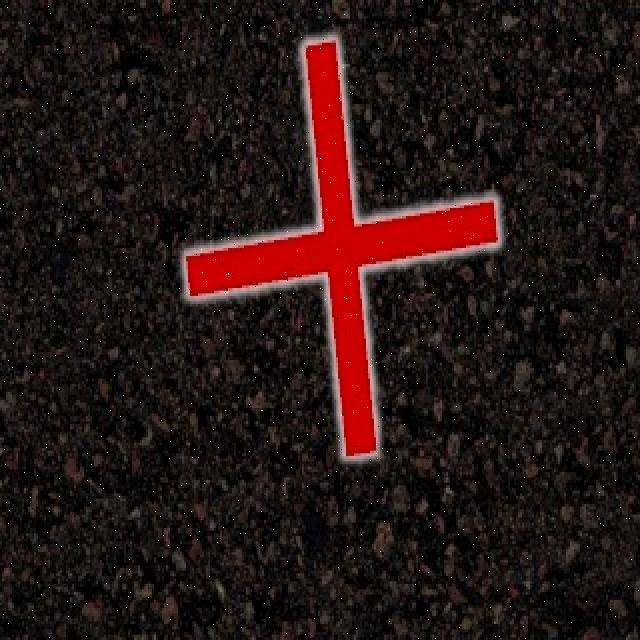x_marker: (185, 38, 497, 454)
